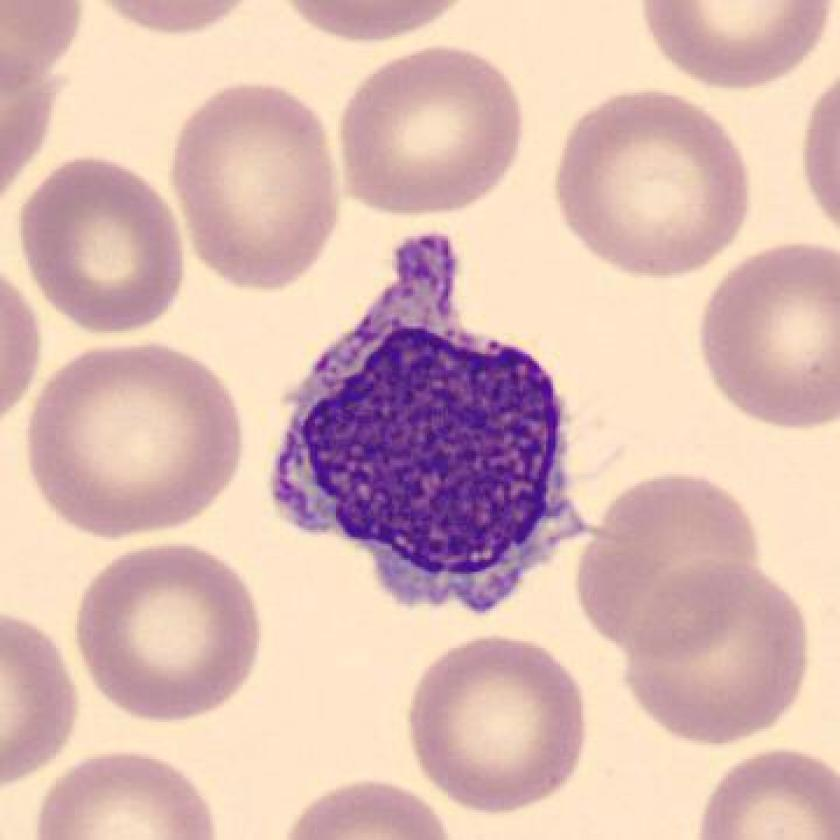lymphocyte: (251, 216, 612, 640)
